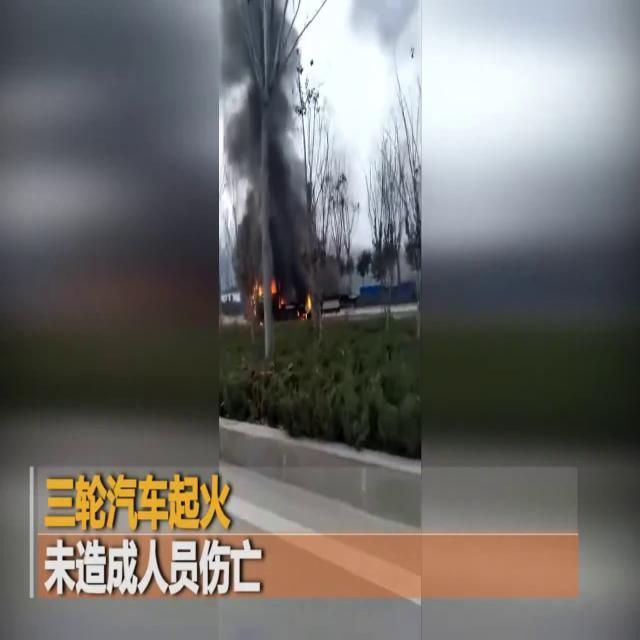Fire: (303, 290, 313, 322)
Smoke: (219, 0, 318, 306)
